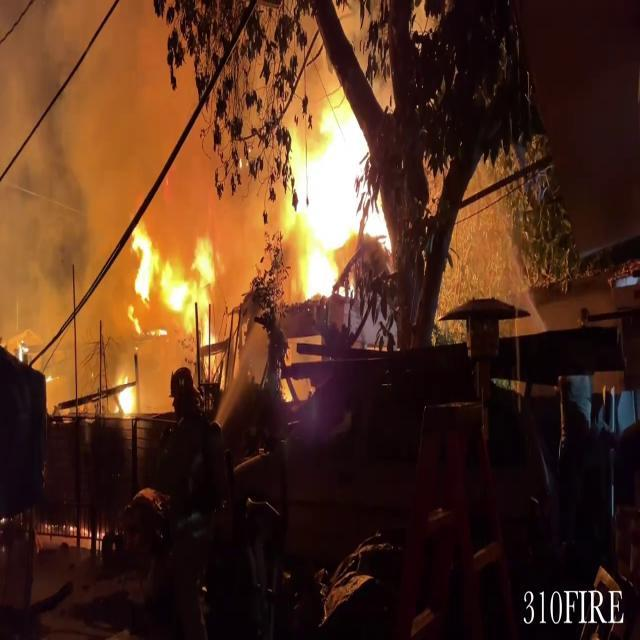Fire: (278, 107, 396, 304), (119, 218, 222, 342), (109, 372, 145, 424)
Smoke: (0, 0, 246, 387)
